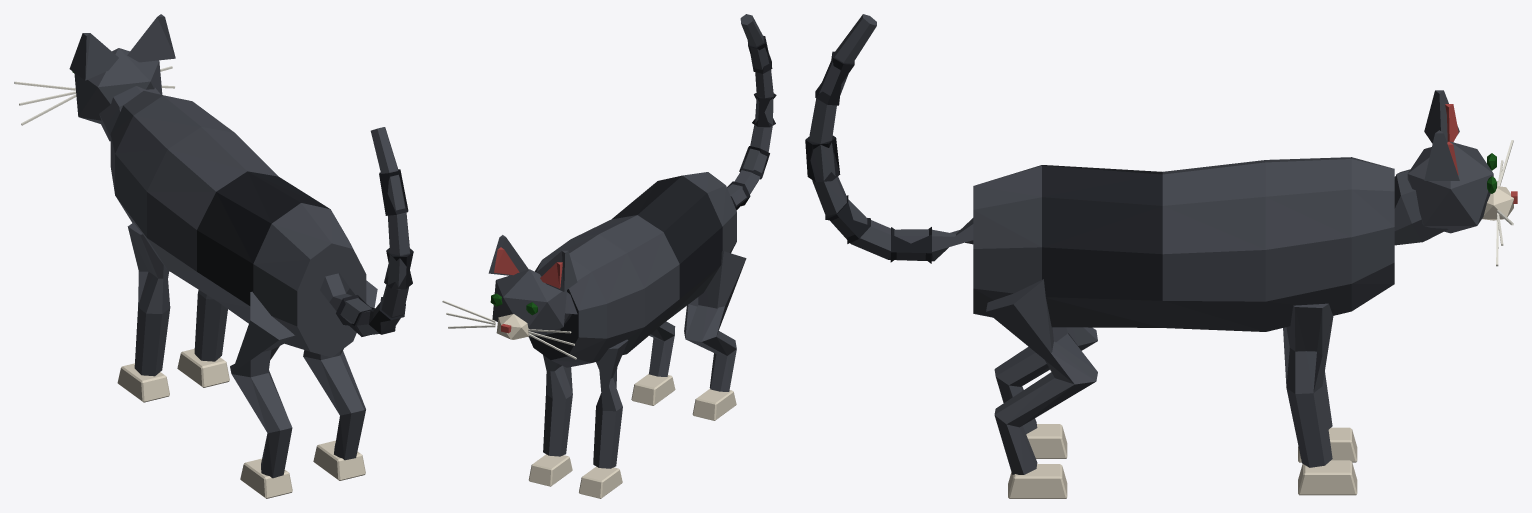
Rendered from ANIMAL_06_Cat.obj.
3 renders of one model, left to right at view 1: azimuth 30°, elevation 25°; view 2: azimuth 150°, elevation 25°; view 3: azimuth 270°, elevation 25°, orthographic. The views are drawn at different scales.
Visible parts, largest first — view 1: ANIMAL_06_Cat_Body, ANIMAL_06_Cat_Leg_Rear_R, ANIMAL_06_Cat_Tail, ANIMAL_06_Cat_Leg_Front_R, ANIMAL_06_Cat_Leg_Rear_L, ANIMAL_06_Cat_Head, ANIMAL_06_Cat_Tail_Stripes, ANIMAL_06_Cat_Leg_Front_L, ANIMAL_06_Cat_Ear_R, ANIMAL_06_Cat_Ear_L, ANIMAL_06_Cat_Paw_Front_L, ANIMAL_06_Cat_Paw_Front_R (+4 smaller); view 2: ANIMAL_06_Cat_Body, ANIMAL_06_Cat_Leg_Rear_R, ANIMAL_06_Cat_Head, ANIMAL_06_Cat_Tail, ANIMAL_06_Cat_Leg_Front_R, ANIMAL_06_Cat_Leg_Front_L, ANIMAL_06_Cat_Tail_Stripes, ANIMAL_06_Cat_Leg_Rear_L, ANIMAL_06_Cat_Paw_Front_R, ANIMAL_06_Cat_Paw_Front_L, ANIMAL_06_Cat_Paw_Rear_L, ANIMAL_06_Cat_Paw_Rear_R (+7 smaller); view 3: ANIMAL_06_Cat_Body, ANIMAL_06_Cat_Leg_Rear_L, ANIMAL_06_Cat_Tail, ANIMAL_06_Cat_Leg_Front_L, ANIMAL_06_Cat_Head, ANIMAL_06_Cat_Tail_Stripes, ANIMAL_06_Cat_Leg_Rear_R, ANIMAL_06_Cat_Neck, ANIMAL_06_Cat_Paw_Front_L, ANIMAL_06_Cat_Paw_Rear_L, ANIMAL_06_Cat_Paw_Rear_R, ANIMAL_06_Cat_Ear_L (+2 smaller).
Boxes of the visible parts, box(x1,y1,x2,y2) form: ANIMAL_06_Cat_Body: box(110, 91, 366, 357); ANIMAL_06_Cat_Leg_Rear_R: box(230, 291, 294, 478); ANIMAL_06_Cat_Tail: box(320, 127, 409, 335); ANIMAL_06_Cat_Leg_Front_R: box(127, 222, 170, 376); ANIMAL_06_Cat_Leg_Rear_L: box(303, 280, 377, 460); ANIMAL_06_Cat_Head: box(74, 48, 162, 123); ANIMAL_06_Cat_Tail_Stripes: box(336, 169, 413, 336); ANIMAL_06_Cat_Leg_Front_L: box(194, 290, 227, 361); ANIMAL_06_Cat_Ear_R: box(69, 33, 118, 80); ANIMAL_06_Cat_Ear_L: box(127, 14, 175, 62); ANIMAL_06_Cat_Paw_Front_L: box(177, 348, 229, 387); ANIMAL_06_Cat_Paw_Front_R: box(117, 363, 169, 402); ANIMAL_06_Cat_Body: box(529, 172, 736, 367); ANIMAL_06_Cat_Leg_Rear_R: box(684, 251, 746, 391); ANIMAL_06_Cat_Head: box(492, 269, 566, 337); ANIMAL_06_Cat_Tail: box(727, 14, 773, 205); ANIMAL_06_Cat_Leg_Front_R: box(593, 339, 628, 468); ANIMAL_06_Cat_Leg_Front_L: box(543, 355, 572, 456); ANIMAL_06_Cat_Tail_Stripes: box(727, 35, 776, 210); ANIMAL_06_Cat_Leg_Rear_L: box(649, 321, 675, 376); ANIMAL_06_Cat_Paw_Front_R: box(579, 466, 622, 498); ANIMAL_06_Cat_Paw_Front_L: box(528, 454, 572, 486); ANIMAL_06_Cat_Paw_Rear_L: box(631, 374, 675, 405); ANIMAL_06_Cat_Paw_Rear_R: box(692, 389, 736, 420); ANIMAL_06_Cat_Body: box(973, 157, 1394, 331); ANIMAL_06_Cat_Leg_Rear_L: box(986, 279, 1097, 474); ANIMAL_06_Cat_Tail: box(809, 14, 973, 261); ANIMAL_06_Cat_Leg_Front_L: box(1283, 303, 1333, 467); ANIMAL_06_Cat_Head: box(1407, 141, 1493, 233); ANIMAL_06_Cat_Tail_Stripes: box(805, 51, 931, 263); ANIMAL_06_Cat_Leg_Rear_R: box(994, 327, 1097, 434); ANIMAL_06_Cat_Neck: box(1394, 169, 1448, 245); ANIMAL_06_Cat_Paw_Front_L: box(1298, 460, 1357, 495); ANIMAL_06_Cat_Paw_Rear_L: box(1008, 464, 1067, 498); ANIMAL_06_Cat_Paw_Rear_R: box(1026, 424, 1067, 458); ANIMAL_06_Cat_Ear_L: box(1424, 130, 1459, 180).
Bounding box in the file's own units: 0.2311 × 0.5851 × 0.8283.
